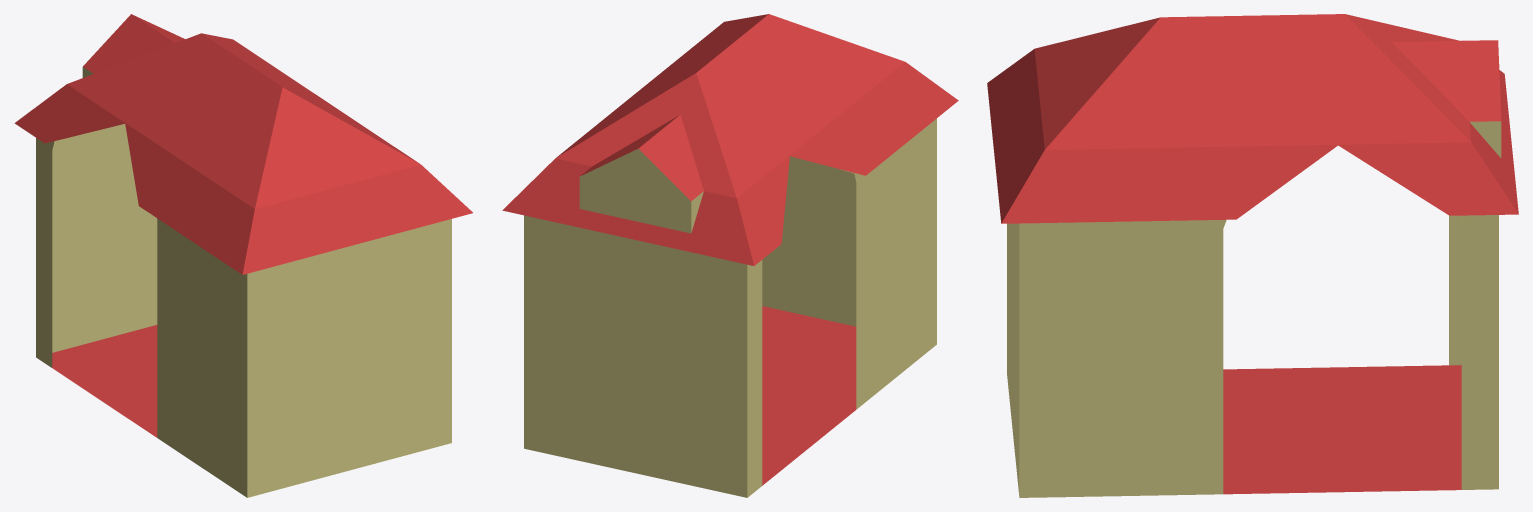
3 views of the same model, side by side, from view 1: azimuth 30°, elevation 25°; view 2: azimuth 150°, elevation 25°; view 3: azimuth 270°, elevation 25° (orthographic). The views are drawn at different scales.
Bounding box in the file's own units: 14.02 × 21 × 18.07.
